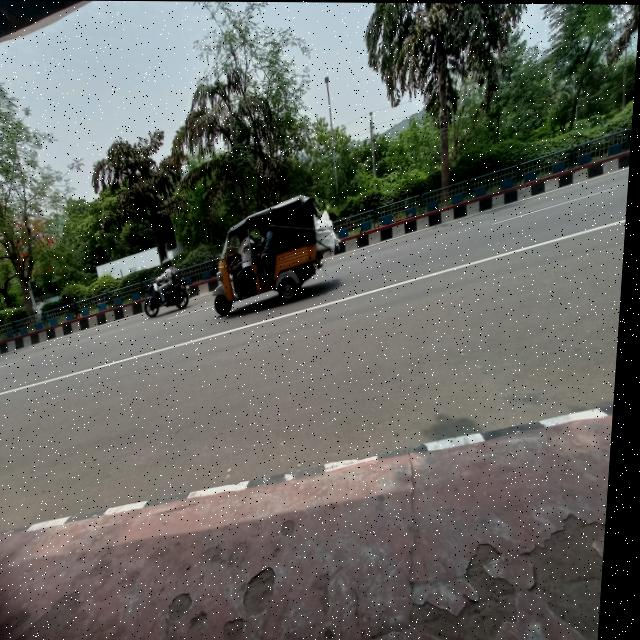bike: (142, 276, 196, 318)
